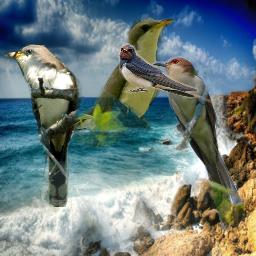Cuckoo: (152, 56, 245, 232), (63, 15, 177, 149), (3, 44, 82, 207)
Swallow: (118, 43, 222, 105)
